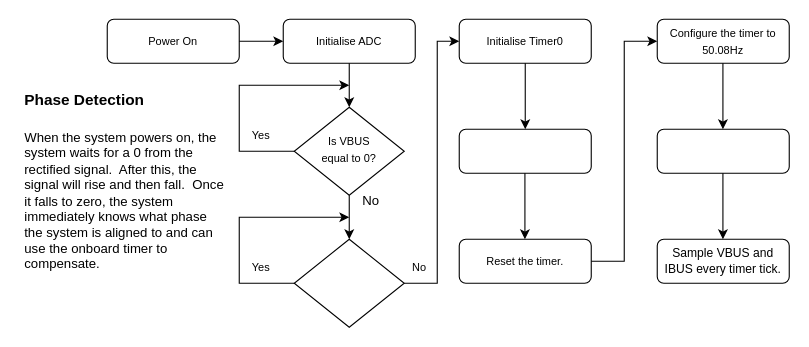
Image size: 809x347. Some labels were removed from this diagram. The centre of each missing label's shape, as x and y in pixels:
Adjust the compare register to compensate for the additional .08Hz: point 722,150
Count until we reach the peak of the signal: point 524,150
Is VBUS more than 0 ?: point 348,282
